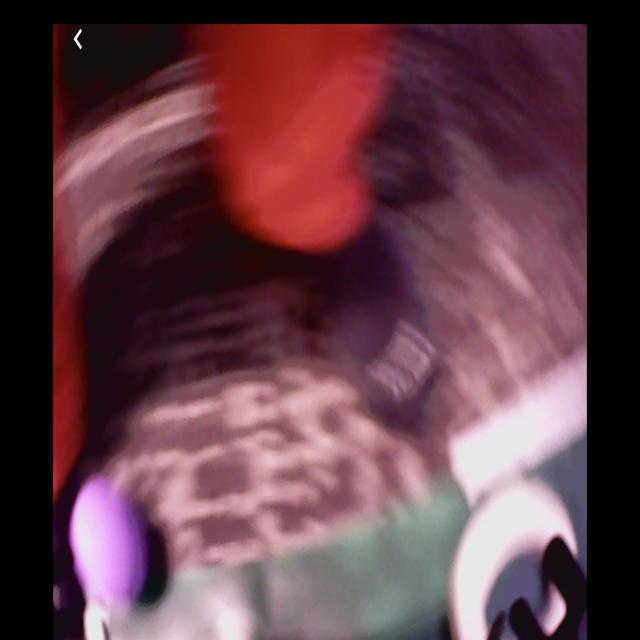ball: (71, 481, 150, 607)
